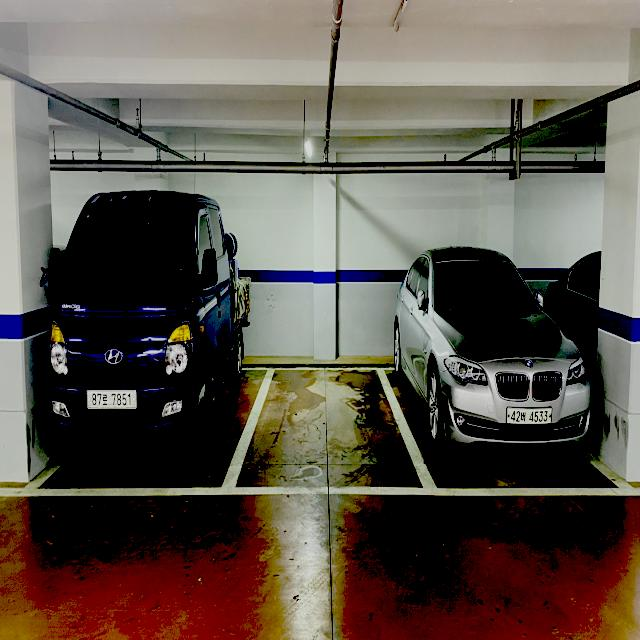empty: (224, 369, 430, 494)
occupied: (47, 195, 224, 446), (419, 240, 591, 450)
